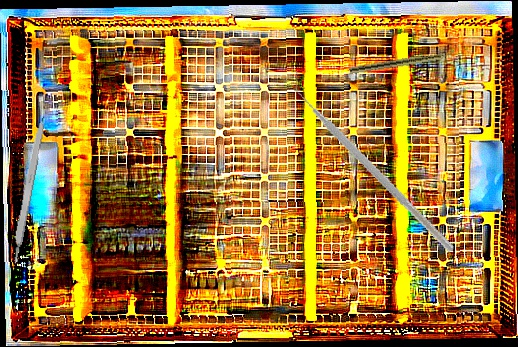Chopper: (261, 69, 488, 253)
Handpiece: (348, 49, 464, 76)
Scalpel Handle: (8, 114, 47, 266)
